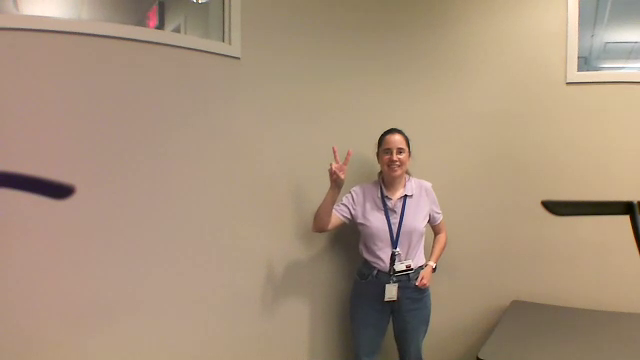peace: (323, 141, 358, 185)
